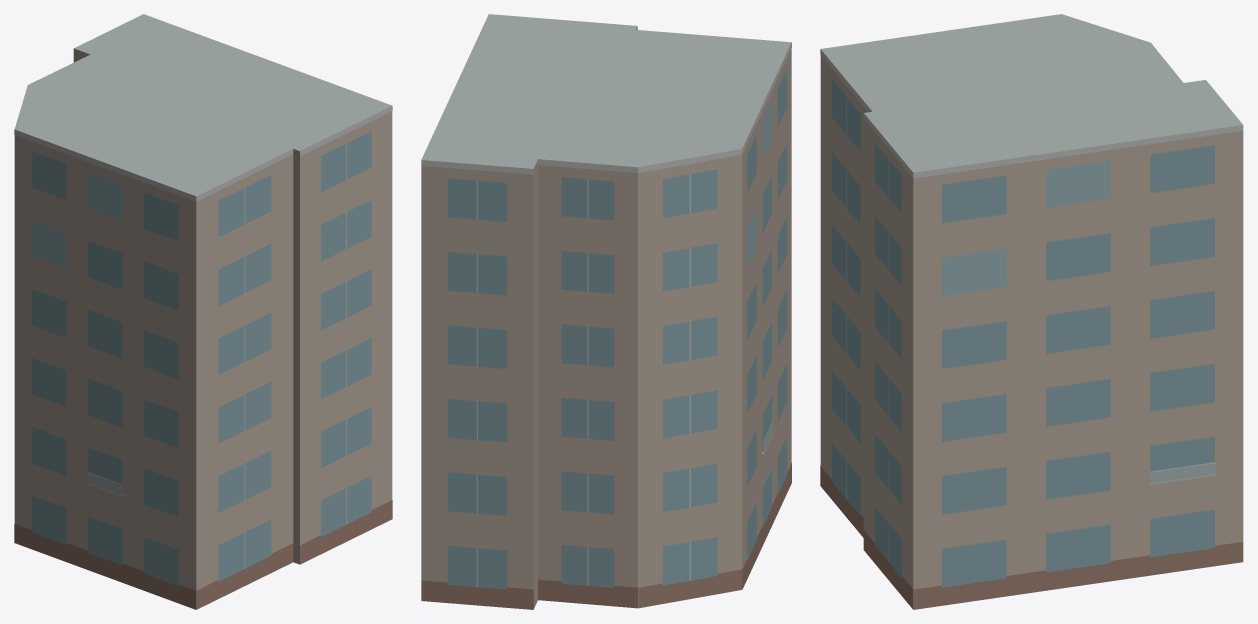
Rendered from survey-upis-32656642.glb.
The picture shows the model from 3 angles, left to right: view 1: azimuth 30°, elevation 25°; view 2: azimuth 150°, elevation 25°; view 3: azimuth 270°, elevation 25°; orthographic projection. The views are drawn at different scales.
Visible parts, largest first — view 1: survey-upis-32656642.tmp; view 2: survey-upis-32656642.tmp; view 3: survey-upis-32656642.tmp.
Boxes of the visible parts, box(x1,y1,x2,y2) form: survey-upis-32656642.tmp: box(14, 14, 392, 609); survey-upis-32656642.tmp: box(421, 14, 791, 609); survey-upis-32656642.tmp: box(820, 14, 1243, 609).
Size of the model in its own units: 14.35 by 18.4 by 16.14.
